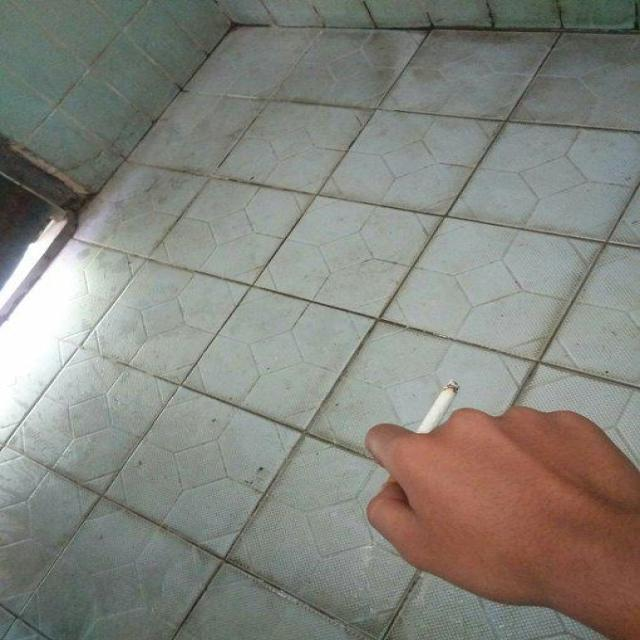rokok: (412, 377, 464, 428)
